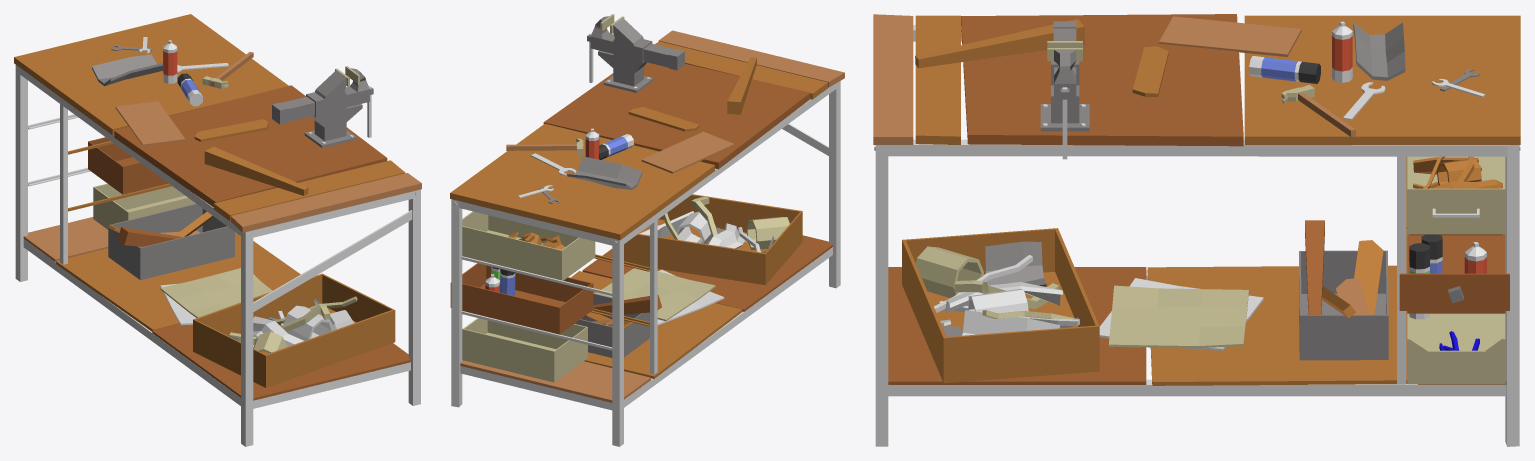
File: Desk1.fbx
3 renders of one model, left to right at view 1: azimuth 30°, elevation 25°; view 2: azimuth 150°, elevation 25°; view 3: azimuth 270°, elevation 25°, orthographic. The views are drawn at different scales.
Parts seen in each view (by area): view 1: Desk; view 2: Desk; view 3: Desk.
Boxes of the visible parts, bbox=[...] form: Desk: bbox=[14, 14, 421, 446]; Desk: bbox=[450, 14, 844, 446]; Desk: bbox=[873, 14, 1520, 446].
Size of the model in its own units: 145 by 199 by 294.
